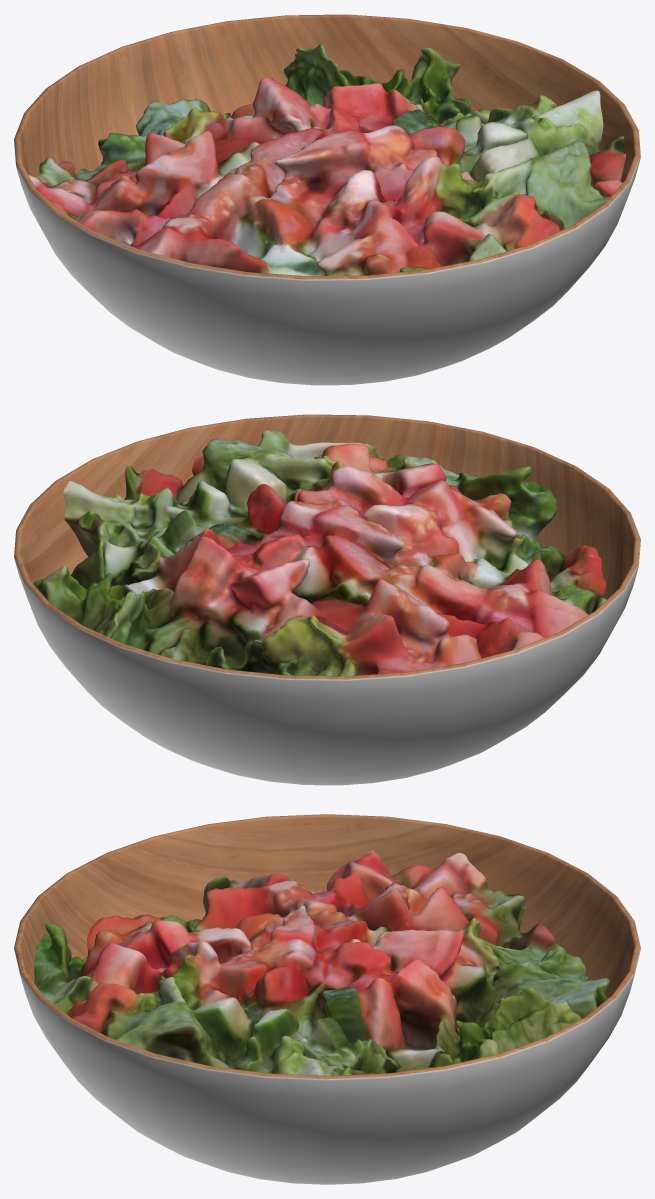
Rendered from bowl-of-salads.glb.
3 renders of one model, top to bottom at view 1: azimuth 30°, elevation 25°; view 2: azimuth 150°, elevation 25°; view 3: azimuth 270°, elevation 25°, orthographic.
Parts seen in each view (by area): view 1: Bowl_0; view 2: Bowl_0; view 3: Bowl_0.
Boxes of the visible parts, box(x1,y1,x2,y2) form: Bowl_0: box(14, 14, 640, 385); Bowl_0: box(14, 414, 640, 785); Bowl_0: box(14, 814, 640, 1184).
Bounding box in the file's own units: 0.2521 × 0.0914 × 0.2521.
2 materials, 2 textured.
